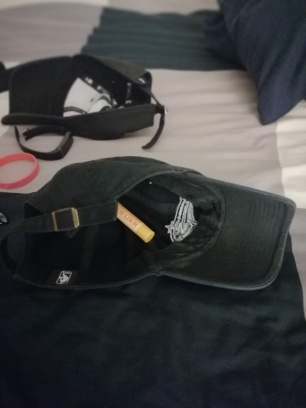chapstick: (116, 198, 156, 244)
